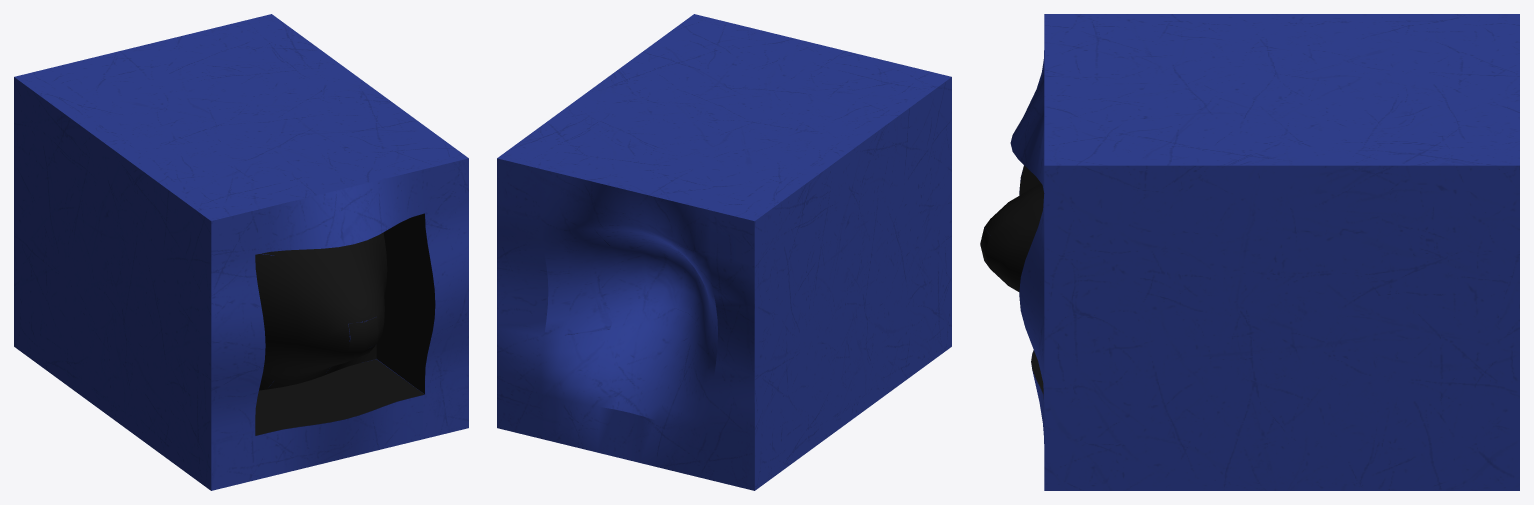
The model's file is bluetrampoline.fbx.
3 views of the same model, side by side, from view 1: azimuth 30°, elevation 25°; view 2: azimuth 150°, elevation 25°; view 3: azimuth 270°, elevation 25° (orthographic). The views are drawn at different scales.
Parts seen in each view (by area): view 1: bluetrampoline; view 2: bluetrampoline; view 3: bluetrampoline.
Part boxes in pixels (x1,y1,x2,y2): bluetrampoline: (14,14,468,490); bluetrampoline: (497,14,951,490); bluetrampoline: (980,14,1519,490).
Bounding box in the file's own units: 2 × 2 × 3.01.
1 material, 1 textured.
